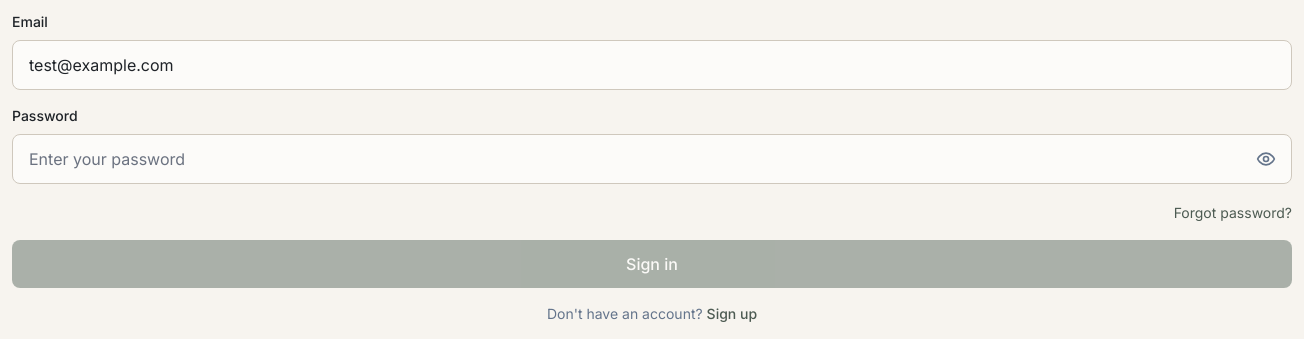
Scenario: EmailPasswordForm › form validation › should enable submit button when email and password are provided
Type "password123" into the password field labelled "Password" at (652, 159), box [12,134,1292,184]
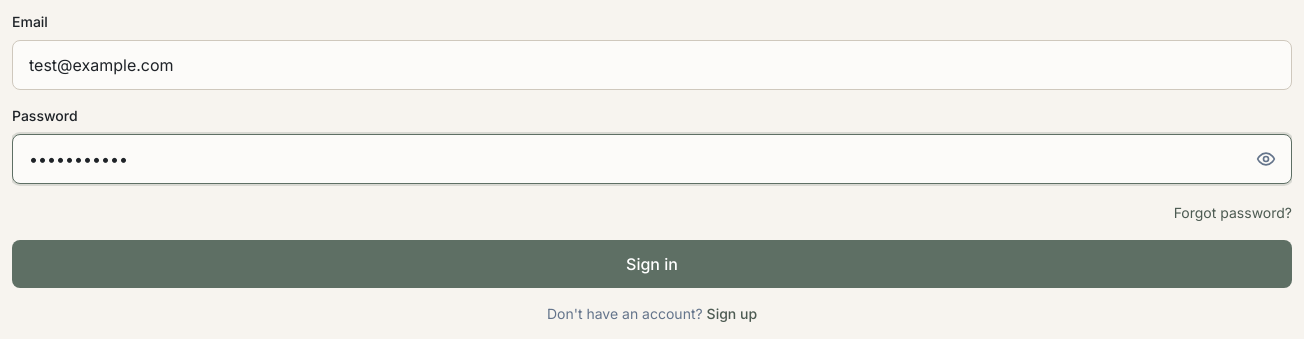
Now the button "Sign in" is enabled, box [12,240,1292,288]
